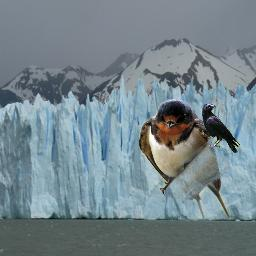Crow: (202, 104, 240, 153)
Swallow: (139, 99, 231, 219)
